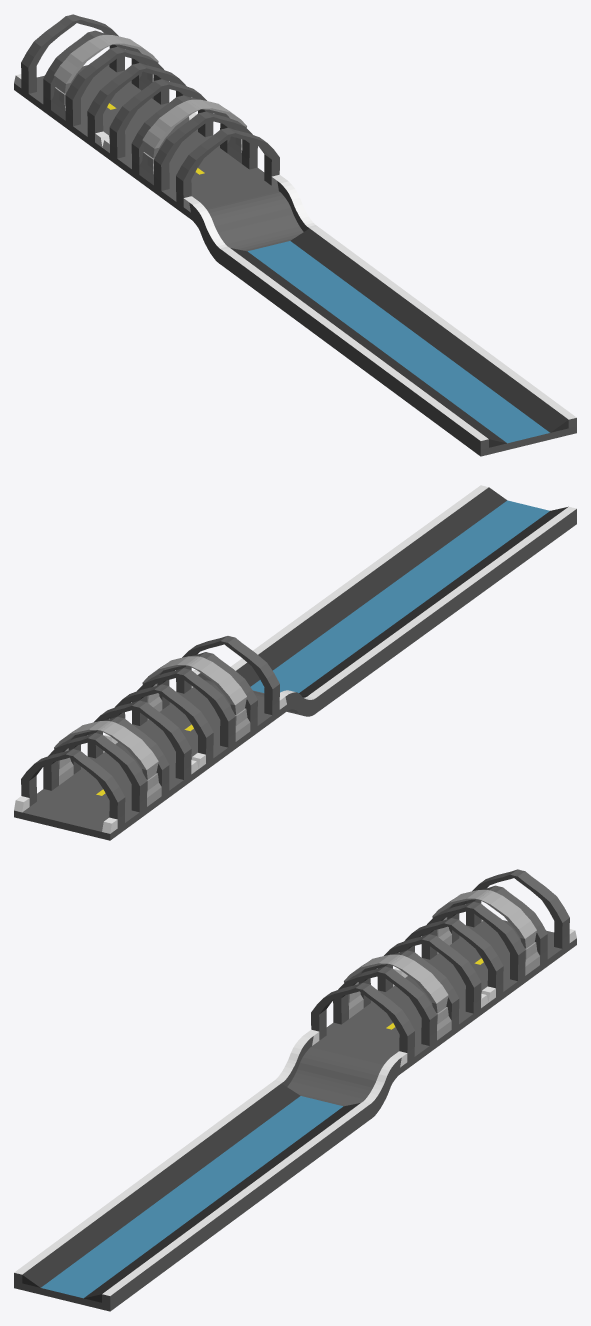
File: pathway.fbx
3 views of the same model, one above another, from view 1: azimuth 30°, elevation 25°; view 2: azimuth 150°, elevation 25°; view 3: azimuth 330°, elevation 25° (orthographic).
Visible parts, largest first — view 1: waterwayR; view 2: waterwayR; view 3: waterwayR.
Boxes of the visible parts, left/top/right/bottom form: waterwayR: left=14, top=14, right=576, bottom=456; waterwayR: left=14, top=485, right=576, bottom=840; waterwayR: left=14, top=869, right=576, bottom=1311.
Bounding box in the file's own units: 29.78 × 249 × 28.14.
